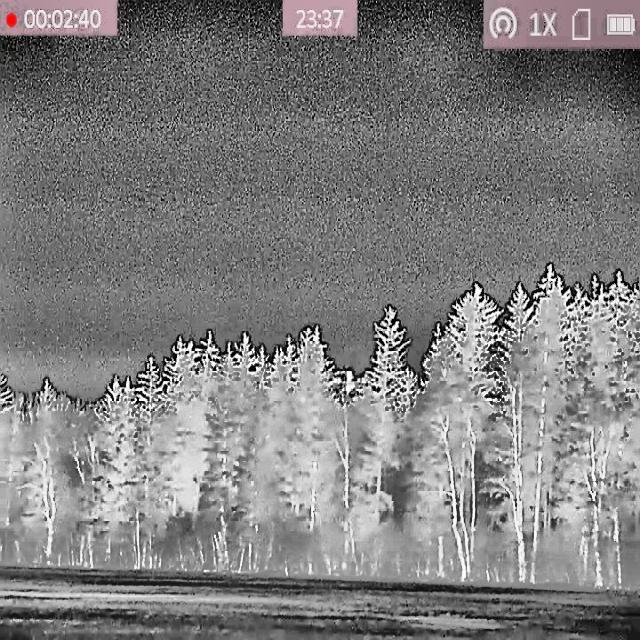drone: (334, 367, 369, 396)
